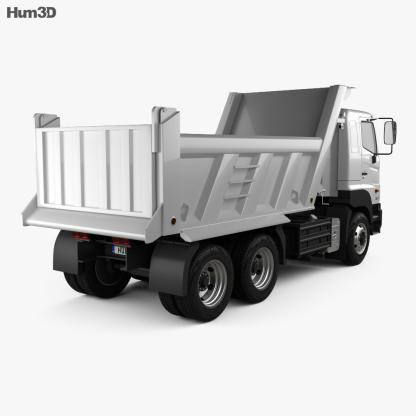dump_truck: (16, 72, 404, 328)
